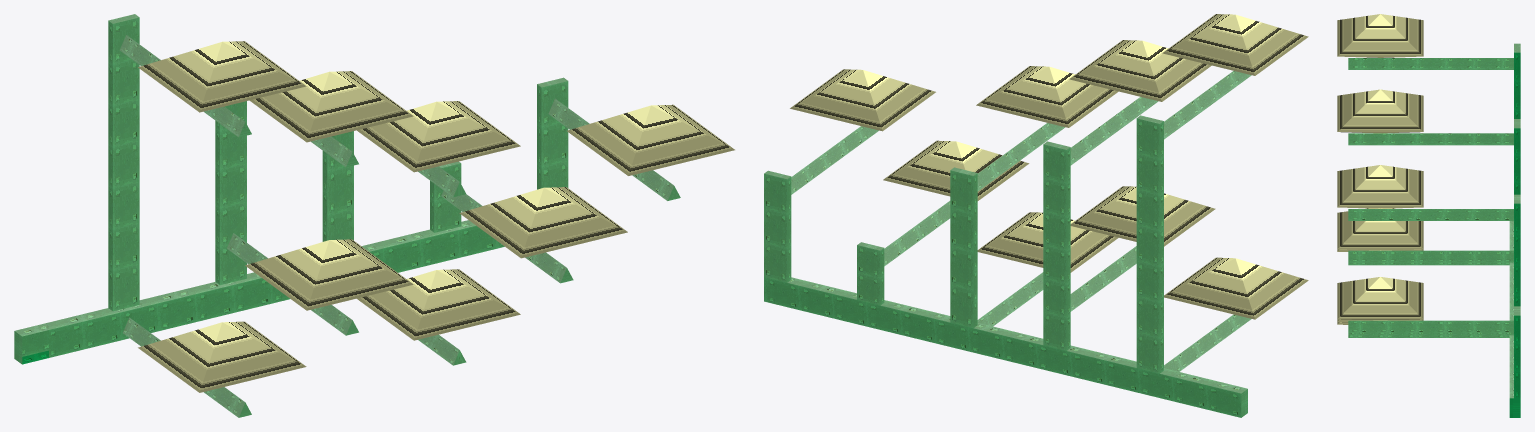
The model's file is rc_dorifu2.glb.
3 views of the same model, side by side, from view 1: azimuth 30°, elevation 25°; view 2: azimuth 150°, elevation 25°; view 3: azimuth 270°, elevation 25° (orthographic). The views are drawn at different scales.
Parts seen in each view (by area): view 1: rc_dorifu2; view 2: rc_dorifu2; view 3: rc_dorifu2.
Part boxes in pixels (bbox=[...]): rc_dorifu2: bbox=[14, 14, 734, 417]; rc_dorifu2: bbox=[764, 14, 1308, 417]; rc_dorifu2: bbox=[1337, 14, 1520, 417].
Bounding box in the file's own units: 275 × 162 × 106.
2 materials, 2 textured.
